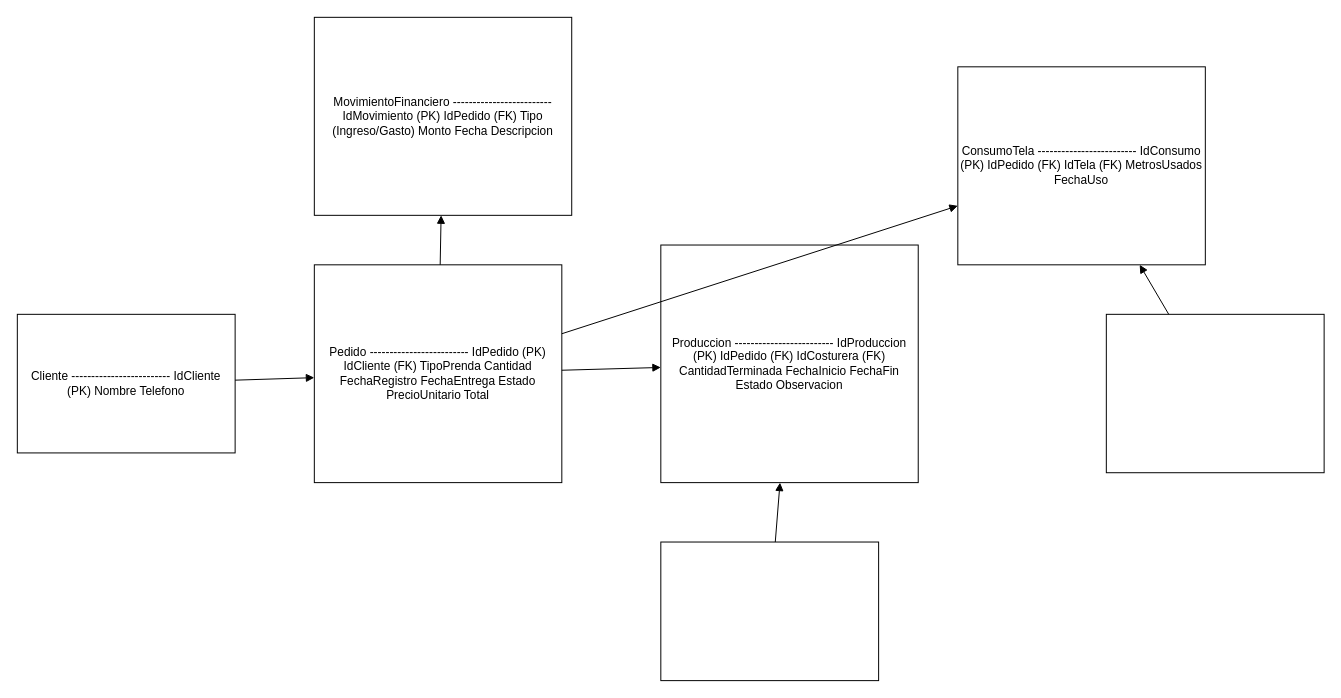
The diagram is 1341 pixels wide and 698 high, and some of its shapes have lost their labels. The centre of each missing label's shape, as x and y in pixels:
"Costurera ------------------------- IdCosturera (PK) Nombre Telefono" belongs at (x=769, y=611).
"Tela ------------------------- IdTela (PK) Tipo Color PrecioMetros FechaIngreso" belongs at (x=1214, y=393).
